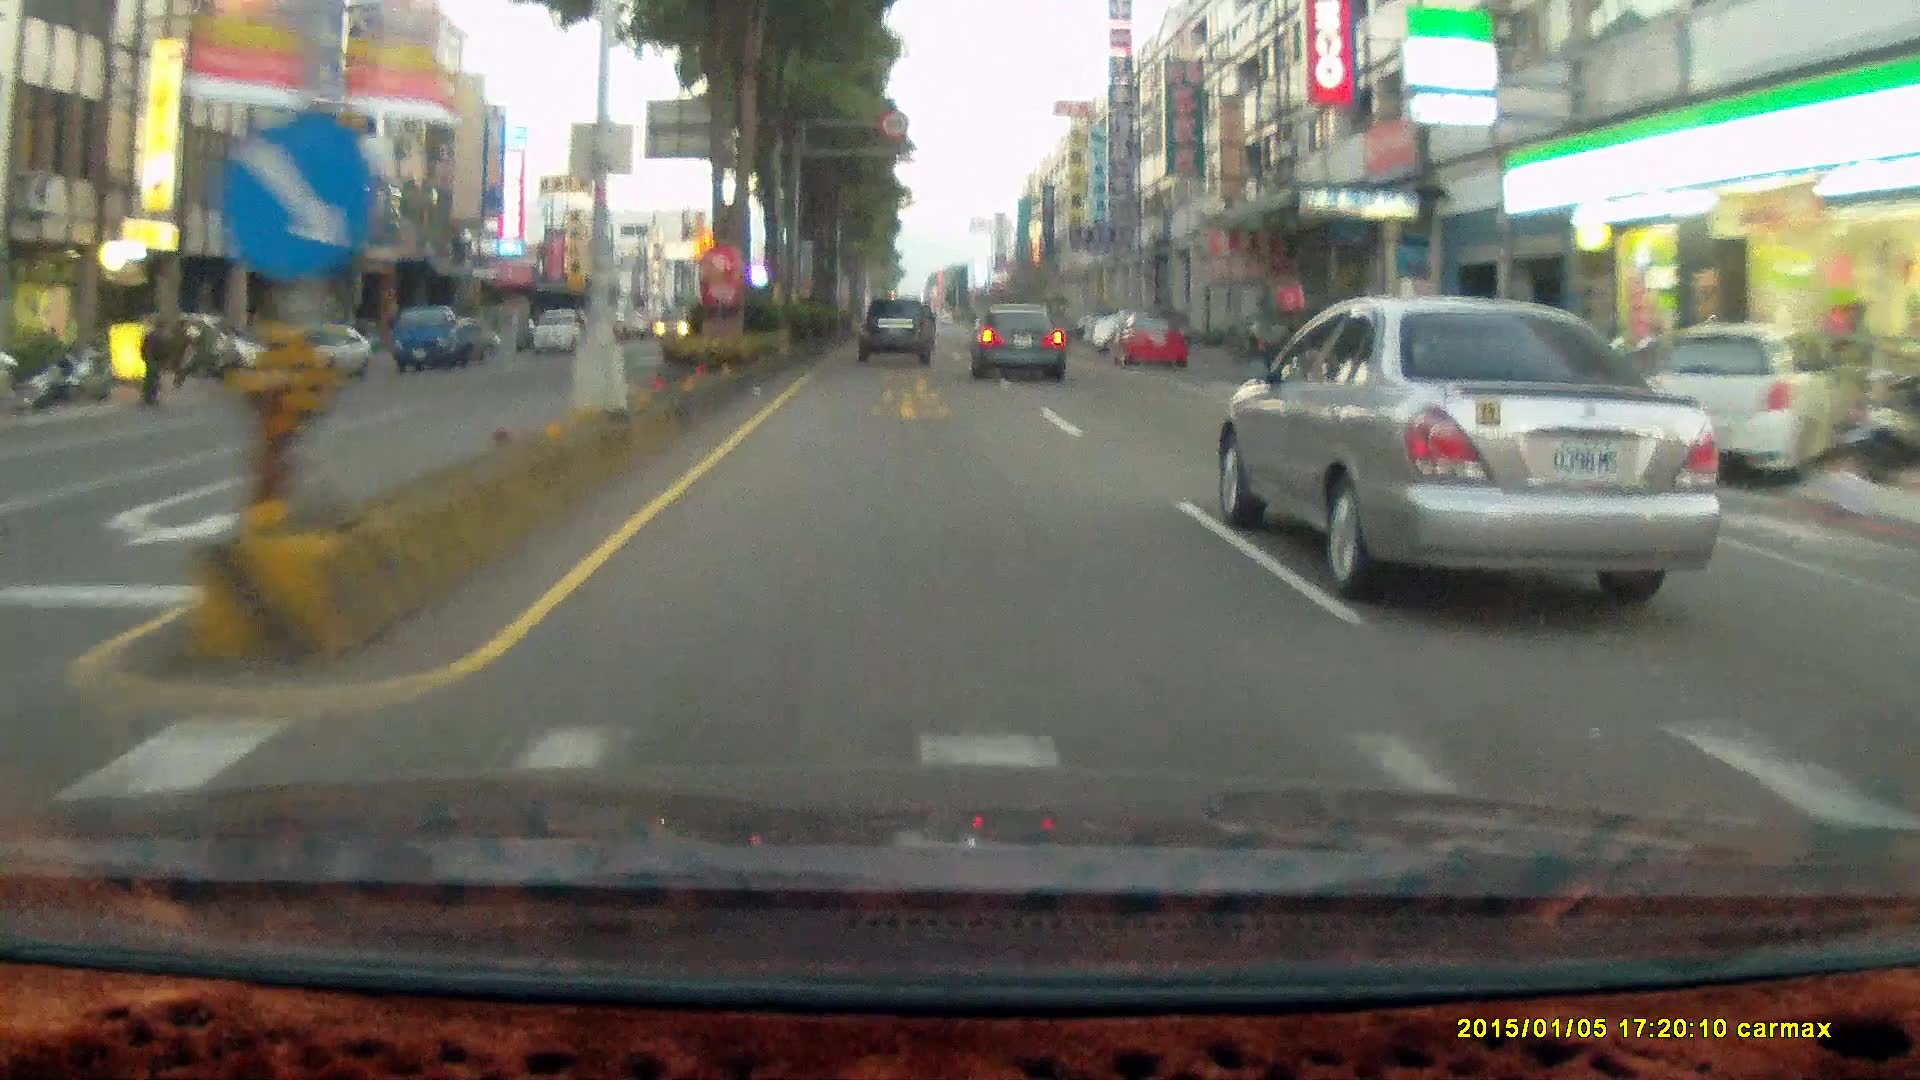pedestrian: (135, 310, 167, 406), (139, 318, 170, 405)
vehicle: (1227, 286, 1730, 583), (1646, 318, 1842, 484), (1415, 316, 1606, 443), (1244, 300, 1409, 381), (1265, 307, 1431, 387), (136, 310, 268, 379), (972, 302, 1069, 382), (968, 304, 1065, 379), (396, 302, 494, 374), (272, 321, 378, 384), (266, 324, 372, 380), (858, 297, 941, 367), (1109, 304, 1196, 368), (391, 304, 475, 370), (856, 294, 933, 364), (1108, 309, 1189, 367), (418, 317, 499, 361), (533, 306, 588, 353), (1084, 312, 1153, 347)
